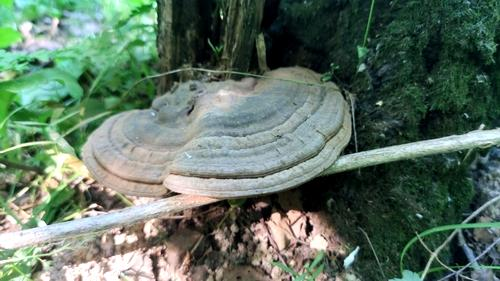Ganoderma - Fruit Body: (80, 65, 354, 204)
